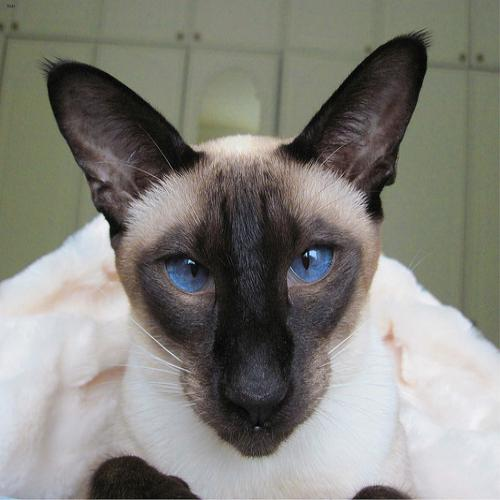siamese: (41, 27, 446, 467)
